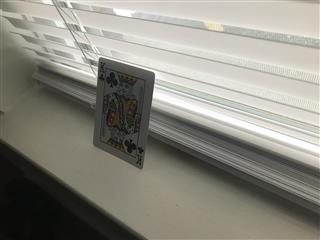KingOfClubs: (92, 56, 156, 169)
